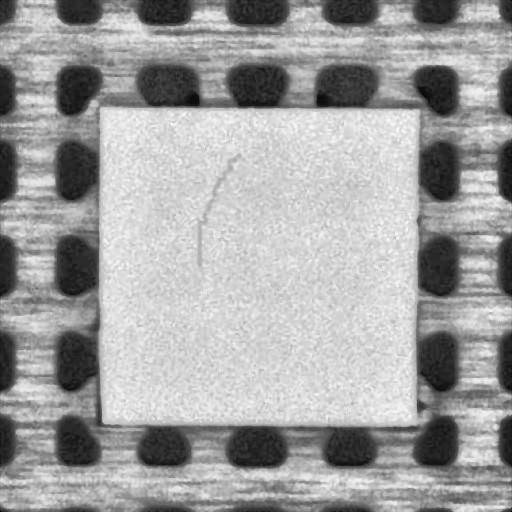DIE_CRACK: (187, 152, 240, 272)
